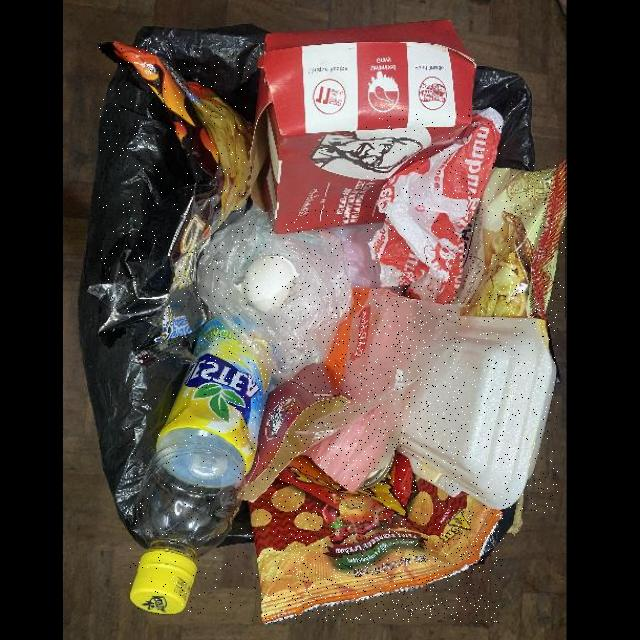biowaste: (240, 256, 299, 311)
paper: (235, 358, 353, 502)
plastic: (130, 316, 273, 613), (199, 210, 353, 379)
styrofoam: (391, 316, 558, 513)
wrapper: (100, 43, 249, 345), (249, 451, 504, 622), (292, 283, 460, 494), (366, 107, 505, 305), (450, 163, 566, 317)
